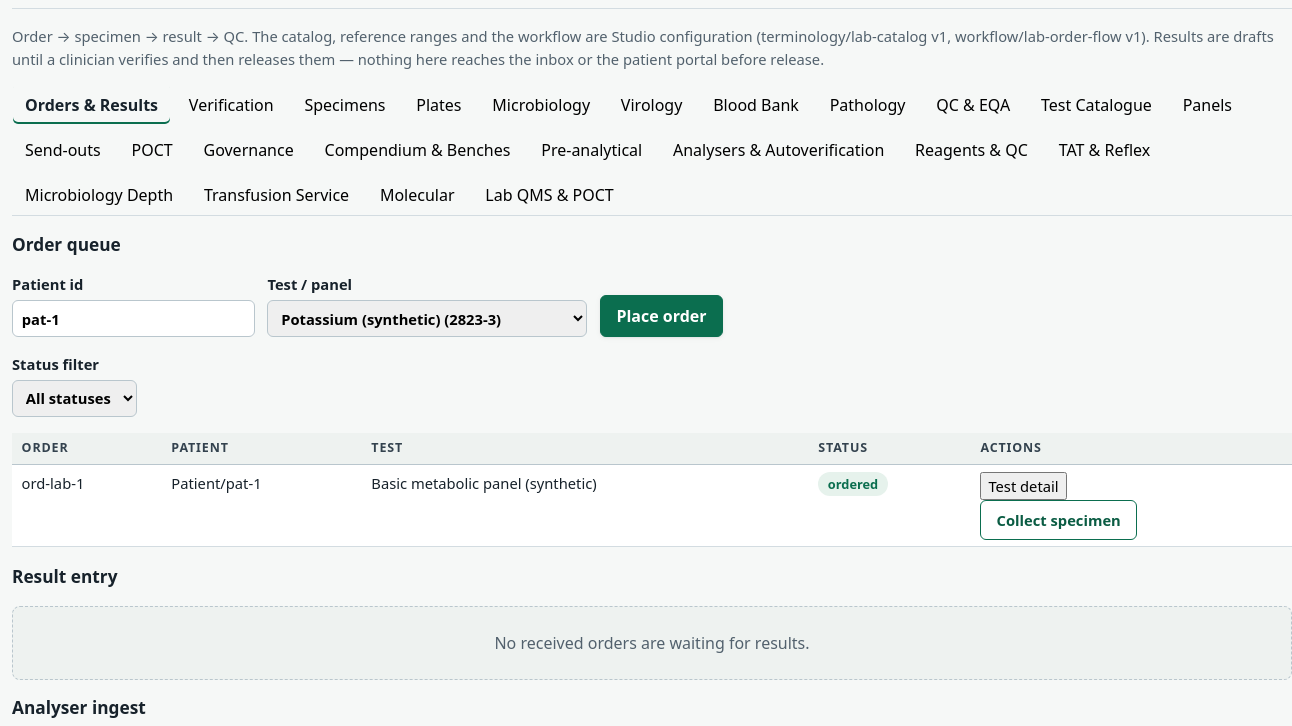
Test case: LabPage Test detail (WS3b) › omits the plated step when the payload has none, and shows pending/current states + no delta
Expected: the text "ord-lab-1" is shown, [12,465,162,547]
Click the button "Test detail". click: (1024, 486)
box: [980,472,1067,500]
(page scrolled)
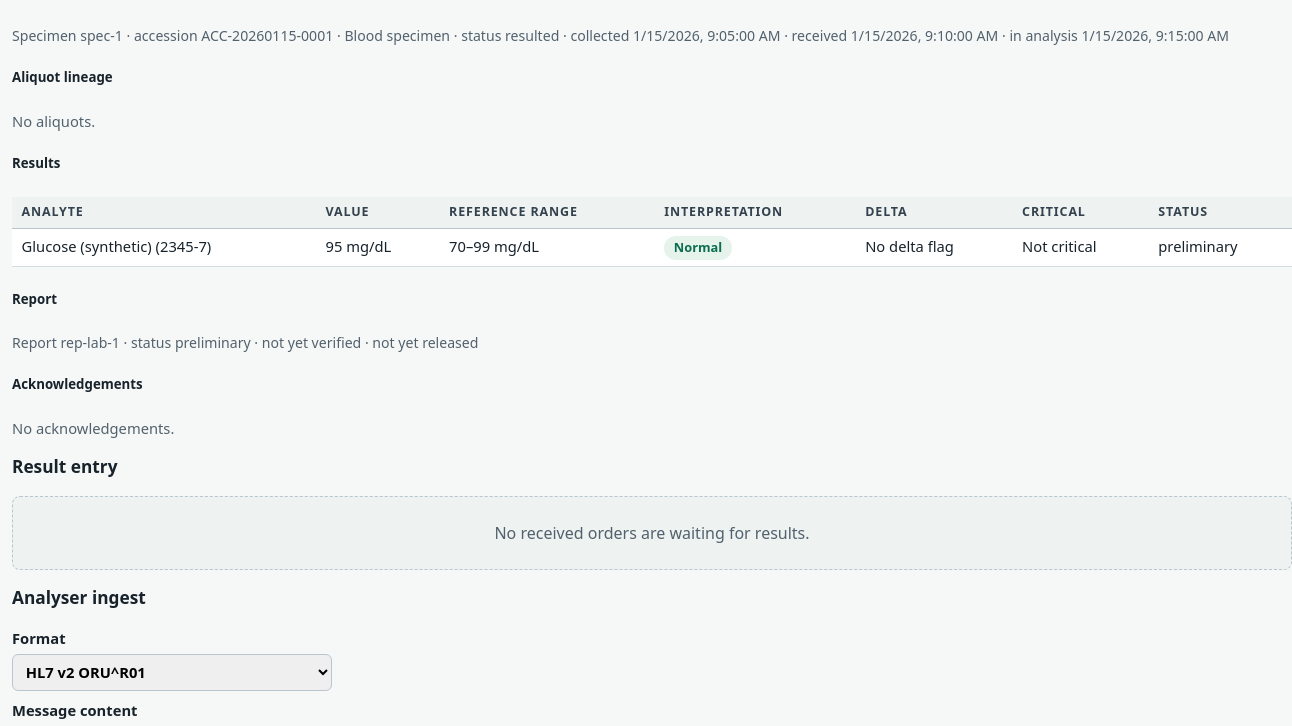
Now the text "No delta flag" is shown, box [856,229,1012,267]
Now the text "Not critical" is shown, box [1012,229,1149,267]
Now the text "No aliquots." is shown, box [12,111,95,131]
